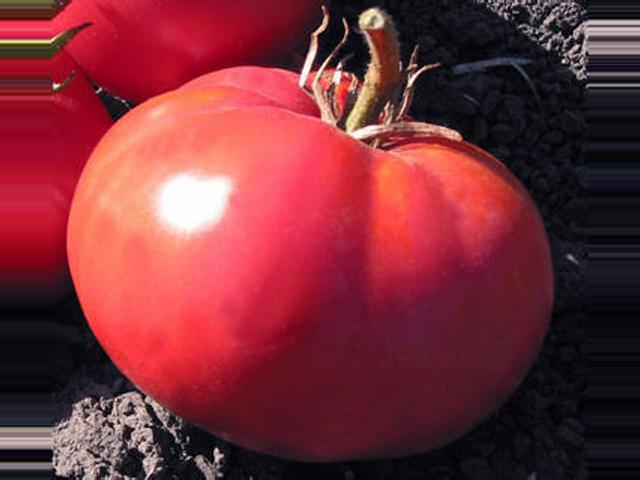tomato: (66, 68, 554, 461)
